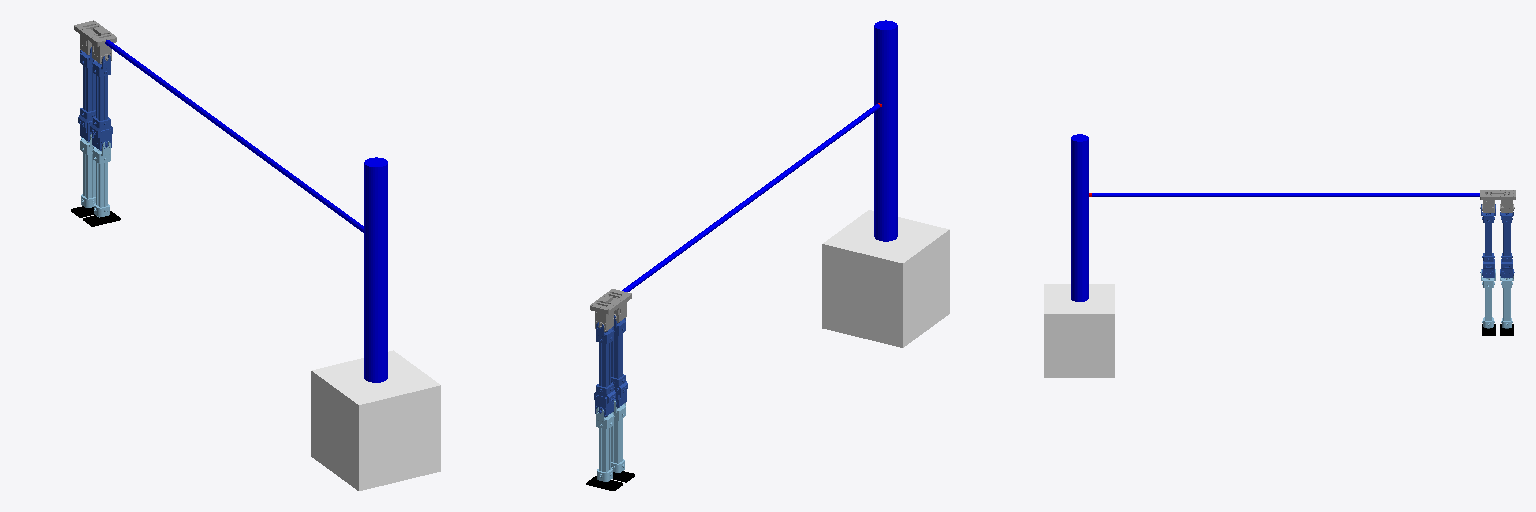
robot.urdf — biped_robot:
<?xml version="1.0" ?>
<!-- Onshape document_id: 002729f0ad708412f7e93c74 -->
<robot name="biped_robot">

<!-- Manualy generated -->
<!-- Link world -->
  <link name="world">
    <visual>
      <geometry>
         <box size=".2 .2 .2" />
      </geometry>
      <material name="blue">
	       <color rgba="1 1 1 1" />
      </material>
    </visual>
  </link>

   <link name="base_boom_link">
    <visual>
      <origin xyz="0 0 0.3" rpy="0 0 0" />
      <geometry>
         <cylinder length="0.6" radius="0.025"/>
      </geometry>
      <material name="blue">
	       <color rgba="0 0 1 1" />
      </material>
    </visual>
  </link>

    <link name="small_link_boom">
    <inertial>
      <origin xyz="0 0.3 0" rpy="0 0 0" />
      <mass value="0" />
      <inertia ixx="0" ixy="0" ixz="0" iyy="0" iyz="0" izz="0" />
    </inertial> 
     <visual>
      <origin xyz="0 0.03 0" rpy="0 0 0" />
      <geometry>
         <box size=".01 0.01 .005" />
      </geometry>
      <material name="red">
	       <color rgba="1 0 0 1" />
      </material>
    </visual>
  </link>

    <link name="boom_link">
    <inertial>
      <origin xyz="0 0.3 0" rpy="0 0 0" />
      <mass value="0" />
      <inertia ixx="0" ixy="0" ixz="0" iyy="0" iyz="0" izz="0" />
    </inertial>
     <visual>
      <origin xyz="0 0.5475 0" rpy="1.57079 0 0" />
      <geometry>
         <cylinder length="1.095" radius="0.006"/>
      </geometry>
      <material name="blue">
	       <color rgba="0 0 1 1" />
      </material>
    </visual>
  </link>

  <!-- Joint from world to base_boom -->
   <joint name="world_to_base_boom_joint" type="prismatic">
    <parent link="world" />
    <child link="base_boom_link" />
    <axis xyz="1 0 0" /> 
    <origin xyz="0 0 0" rpy="0 0 0"/>
  </joint>

   <joint name="base_boom_to_link_boom_joint_z" type="fixed">
    <parent link="base_boom_link" />
    <child link="small_link_boom" />
    <!--<axis xyz="0 0 1" />-->
    <origin xyz="0 0 0.4225" rpy="0 0 0"/>
    <dynamics damping="0" />
  </joint>

    <joint name="base_boom_to_link_boom_joint_x" type="prismatic">
    <parent link="small_link_boom" />
    <child link="boom_link" />
    <axis xyz="0 0 1" />
    <origin xyz="0 0.035 0" rpy="0 0 0"/>
    <dynamics damping="0" />
  </joint>


    <joint name="boom_to_hip_joint" type="fixed">
    <parent link="boom_link" />
    <child link="hips_asmb"/>
    <origin xyz="0 1.095 0" rpy="0 0 0"/>
  </joint>

<!-- Generated using onshape-to-robot -->
  <link name="hips_asmb">
    <inertial>
      <origin xyz="-9.521e-05 0.05 -0.0229961" rpy="0 0 0"/>
      <mass value="0.215313"/>
      <inertia ixx="0.000234409" ixy="-1.55365e-10" ixz="4.98667e-07" iyy="7.94577e-05" iyz="-1.26593e-10" izz="0.000196498"/>
    </inertial>
    <!-- Part hips_asmb -->
    <visual>
      <origin xyz="-6.50521e-19 2.01228e-16 1.04083e-17" rpy="0 -0 0"/>
      <geometry>
        <mesh filename="deps/Enhanced_URDF/Composite_piece/planar_locked_biped_robot/assets/hips_asmb.stl"/>
      </geometry>
      <material name="hips_asmb_material">
        <color rgba="0.647059 0.647059 0.647059 1.0"/>
      </material>
    </visual>
  </link>
  <!-- Link leg_top -->
  <link name="leg_top">
    <inertial>
      <origin xyz="6.1999e-06 0.0191622 -0.134152" rpy="0 0 3.14"/>
      <mass value="0.20726"/>
      <inertia ixx="0.000840912" ixy="5.72332e-08" ixz="-1.04628e-10" iyy="3.21242e-05" iyz="2.69107e-06" izz="0.000837963"/>
    </inertial>
    <!-- Part leg_top -->
    <visual>
      <origin xyz="0 0.019 0" rpy="0 0 3.14"/>
      <geometry>
        <mesh filename="deps/Enhanced_URDF/Composite_piece/planar_locked_biped_robot/assets/leg_top.stl"/>
      </geometry>
      <material name="leg_top_material">
        <color rgba="0.231373 0.380392 0.705882 1.0"/>
      </material>
    </visual>
  </link>
  <!-- Link leg_bottom -->
  <link name="leg_bottom">
    <inertial>
      <origin xyz="4.81e-06 0.0189795 -0.0892789" rpy="0 0 3.14"/>
      <mass value="0.112193"/>
      <inertia ixx="0.000313451" ixy="-4.49773e-09" ixz="-1.198e-11" iyy="1.49078e-05" iyz="4.14191e-07" izz="0.000312486"/>
    </inertial>
    <!-- Part leg_bottom -->
    <visual>
      <origin xyz="0 0.019 0" rpy="0 0 3.14"/>
      <geometry>
        <mesh filename="deps/Enhanced_URDF/Composite_piece/planar_locked_biped_robot/assets/leg_bottom.stl"/>
      </geometry>
      <material name="leg_bottom_material">
        <color rgba="0.615686 0.811765 0.929412 1.0"/>
      </material>
    </visual>
  </link>
  <!-- Link feet -->
  <link name="feet">
    <inertial>
      <origin xyz="6.71916e-05 -2.057e-10 -0.004137" rpy="0 0 0"/>
      <mass value="0.021285"/>
      <inertia ixx="2.63936e-06" ixy="-1.90418e-09" ixz="-1.36223e-13" iyy="8.08043e-06" iyz="2.33434e-15" izz="5.95948e-06"/>
    </inertial>
    <!-- Part feet -->
    <visual>
      <origin xyz="2.20516e-05 -9.71445e-17 -0.009" rpy="0 0 0"/>
      <geometry>
        <mesh filename="deps/Enhanced_URDF/Composite_piece/planar_locked_biped_robot/assets/feet.stl"/>
      </geometry>
      <material name="feet_material">
        <color rgba="0 0 0 1.0"/>
      </material>
    </visual>
  </link>
  <!-- Joint from leg_bottom to feet -->
  <joint name="ankle_left" type="revolute">
    <origin xyz="0 0.019 -0.17201" rpy="0 0 0"/>
    <parent link="leg_bottom"/>
    <child link="feet"/>
    <axis xyz="0 1 0"/>
    <limit effort="10" velocity="10" lower="-3.141592653589793" upper="3.141592653589793"/>
  </joint>
  <!-- Joint from leg_top to leg_bottom -->
  <joint name="knee_left" type="revolute">
    <origin xyz="1e-05 -1e-05 -0.20125" rpy="0 0 0"/>
    <parent link="leg_top"/>
    <child link="leg_bottom"/>
    <axis xyz="0 1 0"/>
    <limit effort="10" velocity="10" lower="-3.141592653589793" upper="3.141592653589793"/>
  </joint>
  <!-- Joint from hips_asmb to leg_top -->
  <joint name="hip_left" type="revolute">
    <origin xyz="-9.52106e-08 0.057 -0.04025" rpy="0 0 0"/>
    <parent link="hips_asmb"/>
    <child link="leg_top"/>
    <axis xyz="0 1 0"/>
    <limit effort="10" velocity="10" lower="-3.141592653589793" upper="3.141592653589793"/>
  </joint>
  <!-- Link leg_top_2 -->
  <link name="leg_top_2">
    <inertial>
      <origin xyz="6.1999e-06 -0.0191622 -0.134152" rpy="0 0 0"/>
      <mass value="0.20726"/>
      <inertia ixx="0.000840912" ixy="-5.72332e-08" ixz="1.04628e-10" iyy="3.21242e-05" iyz="2.69107e-06" izz="0.000837963"/>
    </inertial>
    <!-- Part leg_top_2 -->
    <visual>
      <origin xyz="-2.70006e-16 -0.019 0" rpy="0 0 0"/>
      <geometry>
        <mesh filename="deps/Enhanced_URDF/Composite_piece/planar_locked_biped_robot/assets/leg_top.stl"/>
      </geometry>
      <material name="leg_top_2_material">
        <color rgba="0.231373 0.380392 0.705882 1.0"/>
      </material>
    </visual>
  </link>
  <!-- Link leg_bottom_2 -->
  <link name="leg_bottom_2">
    <inertial>
      <origin xyz="4.81e-06 -0.0189795 -0.0892789" rpy="0 0 0"/>
      <mass value="0.112193"/>
      <inertia ixx="0.000313451" ixy="4.49773e-09" ixz="1.198e-11" iyy="1.49078e-05" iyz="4.14191e-07" izz="0.000312486"/>
    </inertial>
    <!-- Part leg_bottom_2 -->
    <visual>
      <origin xyz="-8.96669e-18 -0.019 0" rpy="0 0 0"/>
      <geometry>
        <mesh filename="deps/Enhanced_URDF/Composite_piece/planar_locked_biped_robot/assets/leg_bottom.stl"/>
      </geometry>
      <material name="leg_bottom_2_material">
        <color rgba="0.615686 0.811765 0.929412 1.0"/>
      </material>
    </visual>
  </link>
  <!-- Link feet_2 -->
  <link name="feet_2">
    <inertial>
      <origin xyz="6.71916e-05 -2.057e-10 -0.004137" rpy="0 0 0"/>
      <mass value="0.021285"/>
      <inertia ixx="2.63936e-06" ixy="-1.90418e-09" ixz="-1.36223e-13" iyy="8.08043e-06" iyz="2.33434e-15" izz="5.95948e-06"/>
    </inertial>
    <!-- Part feet_2 -->
    <visual>
      <origin xyz="2.20516e-05 -9.02056e-17 -0.009" rpy="0 0 0"/>
      <geometry>
        <mesh filename="deps/Enhanced_URDF/Composite_piece/planar_locked_biped_robot/assets/feet.stl"/>
      </geometry>
      <material name="feet_2_material">
        <color rgba="0 0 0 1.0"/>
      </material>
    </visual>
  </link>
  <!-- Joint from leg_bottom_2 to feet_2 -->
  <joint name="ankle_right" type="revolute">
    <origin xyz="9.31476e-15 -0.019 -0.17201" rpy="0 0 0"/>
    <parent link="leg_bottom_2"/>
    <child link="feet_2"/>
    <axis xyz="0 1 0"/>
    <limit effort="10" velocity="10" lower="-3.141592653589793" upper="3.141592653589793"/>
  </joint>
  <!-- Joint from leg_top_2 to leg_bottom_2 -->
  <joint name="knee_right" type="revolute">
    <origin xyz="1e-05 -1e-05 -0.20125" rpy="0 0 0"/>
    <parent link="leg_top_2"/>
    <child link="leg_bottom_2"/>
    <axis xyz="0 1 0"/>
    <limit effort="10" velocity="10" lower="-3.141592653589793" upper="3.141592653589793"/>
  </joint>
  <!-- Joint from hips_asmb to leg_top_2 -->
  <joint name="hip_right" type="revolute">
    <origin xyz="-9.52106e-08 0.043 -0.04025" rpy="0 0 0"/>
    <parent link="hips_asmb"/>
    <child link="leg_top_2"/>
    <axis xyz="0 1 0"/>
    <limit effort="10" velocity="10" lower="-3.141592653589793" upper="3.141592653589793"/>
  </joint>
</robot>

--- Render facts (derived) ---
The picture shows the robot from 3 angles, left to right: view 1: azimuth 30°, elevation 25°; view 2: azimuth 150°, elevation 25°; view 3: azimuth 270°, elevation 25°; orthographic projection.
Robot: biped_robot — 11 links, 10 joints (6 revolute, 2 prismatic, 2 fixed); root link world; default pose: all joints at 0.
Visible links, largest first — view 1: world, base_boom_link, boom_link, leg_top_2, leg_top, hips_asmb, leg_bottom_2, leg_bottom; view 2: world, base_boom_link, boom_link, leg_top, hips_asmb, leg_top_2, leg_bottom, leg_bottom_2; view 3: world, base_boom_link, boom_link, hips_asmb, leg_top, leg_top_2.
Boxes of the visible links, bbox=[...] form: world: bbox=[311, 350, 440, 490]; base_boom_link: bbox=[364, 157, 387, 382]; boom_link: bbox=[105, 40, 363, 232]; leg_top_2: bbox=[90, 55, 112, 150]; leg_top: bbox=[78, 47, 95, 141]; hips_asmb: bbox=[74, 20, 116, 63]; leg_bottom_2: bbox=[93, 141, 110, 217]; leg_bottom: bbox=[80, 134, 95, 207]; world: bbox=[822, 210, 949, 347]; base_boom_link: bbox=[874, 20, 897, 241]; boom_link: bbox=[622, 104, 879, 291]; leg_top: bbox=[594, 322, 615, 416]; hips_asmb: bbox=[590, 289, 631, 331]; leg_top_2: bbox=[611, 315, 627, 407]; leg_bottom: bbox=[596, 407, 613, 481]; leg_bottom_2: bbox=[611, 400, 625, 472]; world: bbox=[1044, 284, 1114, 377]; base_boom_link: bbox=[1071, 134, 1088, 301]; boom_link: bbox=[1092, 193, 1479, 196]; hips_asmb: bbox=[1480, 190, 1515, 212]; leg_top: bbox=[1500, 212, 1514, 277]; leg_top_2: bbox=[1480, 204, 1495, 277].
Size in the robot's own frame: 0.2 by 1.33 by 0.7 metres.
Meshes: 4 distinct files referenced, 7 mesh visuals loaded (4 binary STL).
